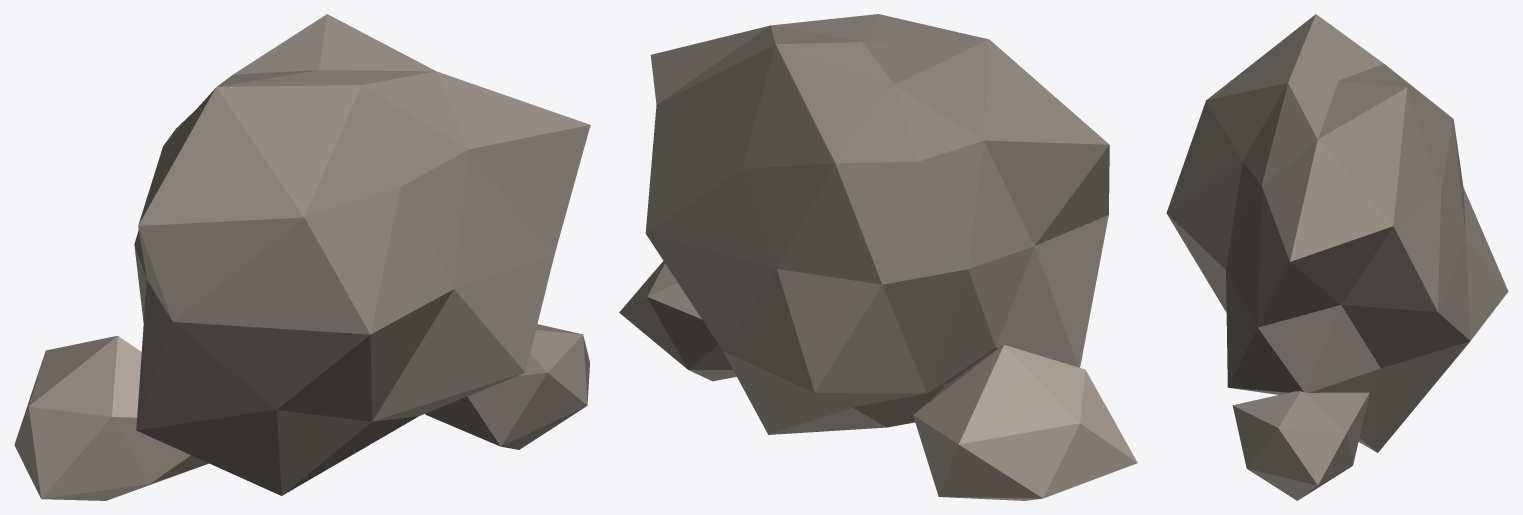
File: LargeStone.glb
3 views of the same model, side by side, from view 1: azimuth 30°, elevation 25°; view 2: azimuth 150°, elevation 25°; view 3: azimuth 270°, elevation 25° (orthographic). The views are drawn at different scales.
Visible parts, largest first — view 1: MainBoulder, BoulderBaseLeft, BoulderBaseRight; view 2: MainBoulder, BoulderBaseLeft, BoulderBaseRight; view 3: MainBoulder, BoulderBaseRight.
Boxes of the visible parts, x1,y1,x2,y2 form: MainBoulder: (134,14,590,495); BoulderBaseLeft: (14,335,208,500); BoulderBaseRight: (425,324,589,449); MainBoulder: (645,14,1109,434); BoulderBaseLeft: (913,345,1137,500); BoulderBaseRight: (619,261,736,381); MainBoulder: (1166,14,1508,452); BoulderBaseRight: (1232,391,1369,500).
Size of the model in its own units: 2.29 by 1.74 by 1.48.
